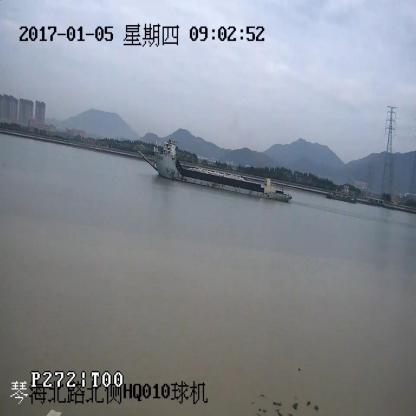Bulk Carrier: (140, 140, 290, 200)
